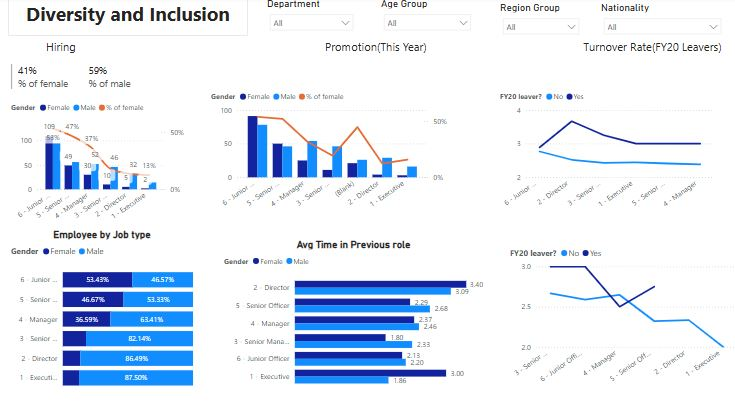

The page's visual inventory and layout, read from the dashboard file:
{"tool":"powerbi","page":{"name":"Page 1","canvas":[1280,720],"ordinal":0},"visuals":[{"type":"textbox","box":[50.4,6.7,403.1,58.8],"z":0},{"type":"slicer","title":"Department","fields":{"Values":["Pharma Group AG.Last Department in FY20"]},"box":[480.4,6.7,159.6,58.8],"z":1000},{"type":"slicer","title":"Age Group","fields":{"Values":["Pharma Group AG.Age @01.07.2020"]},"box":[671.9,6.7,166.3,58.8],"z":2000},{"type":"clusteredBarChart","title":"Avg Time in Previous role","fields":{"Category":["Pharma Group AG.Job Level after FY20 promotions"],"Series":["Pharma Group AG.Gender"],"Y":["Pharma Group AG.Time in Job Level @01.07.2020"]},"box":[408.2,404.8,445.1,262],"z":3000},{"type":"lineClusteredColumnComboChart","title":" % of female by Job Level after FY20 promotions ","fields":{"Category":["Pharma Group AG.Job Level after FY20 promotions"],"Y2":["Pharma Group AG.% of female"],"Y":["Pharma Group AG.Employee ID"],"Series":["Pharma Group AG.Gender"]},"box":[50.4,166.3,300.7,221.7],"z":4000},{"type":"lineClusteredColumnComboChart","title":"% of female by Job Level after FY21 promotions ","fields":{"Category":["Pharma Group AG.Job Level after FY21 promotions"],"Series":["Pharma Group AG.Gender"],"Y2":["Pharma Group AG.% of female"],"Y":["Pharma Group AG.Employee ID"]},"box":[386.4,147.8,406.5,220.1],"z":6000},{"type":"hundredPercentStackedBarChart","title":"Employee by Job type","fields":{"Y":["Pharma Group AG.Employee ID"],"Category":["Pharma Group AG.Job Level after FY20 promotions"],"Series":["Pharma Group AG.Gender"]},"box":[50.4,388,315.8,283.9],"z":7000},{"type":"slicer","title":"Nationality","fields":{"Values":["Pharma Group AG.Nationality 1"]},"box":[1041.5,6.7,216.7,58.8],"z":8000},{"type":"slicer","title":"Region  Group","fields":{"Values":["Pharma Group AG.Region group: nationality 1"]},"box":[871.8,6.7,147.8,65.5],"z":9000},{"type":"lineChart","fields":{"Y":["Pharma Group AG.FY19 Performance Rating"],"Category":["Pharma Group AG.Job Level after FY20 promotions"],"Series":["Pharma Group AG.FY20 leaver?"]},"box":[888.6,409.9,391.4,250.3],"z":10000},{"type":"lineChart","fields":{"Y":["Pharma Group AG.FY19 Performance Rating"],"Category":["Pharma Group AG.Job Level after FY20 promotions"],"Series":["Pharma Group AG.FY20 leaver?"]},"box":[871.8,147.8,367.9,220.1],"z":11000},{"type":"textbox","box":[26.9,65.5,1253.1,42],"z":12000},{"type":"multiRowCard","fields":{"Values":["Pharma Group AG.% of female","Pharma Group AG.% of male"]},"box":[50.4,107.5,258.7,58.8],"z":13000}]}

Visuals, with their boxes in screenshot pixels (x1, y1, x2, y2), scaled from the page's 1280x720 canvas onto the 735x407 screenshot:
textbox: x1=29, y1=4, x2=260, y2=37
"Department" slicer: x1=276, y1=4, x2=368, y2=37
"Age Group" slicer: x1=386, y1=4, x2=481, y2=37
"Avg Time in Previous role" clusteredBarChart: x1=234, y1=229, x2=490, y2=377
" % of female by Job Level after FY20 promotions " lineClusteredColumnComboChart: x1=29, y1=94, x2=202, y2=219
"% of female by Job Level after FY21 promotions " lineClusteredColumnComboChart: x1=222, y1=84, x2=455, y2=208
"Employee by Job type" hundredPercentStackedBarChart: x1=29, y1=219, x2=210, y2=380
"Nationality" slicer: x1=598, y1=4, x2=722, y2=37
"Region  Group" slicer: x1=501, y1=4, x2=585, y2=41
lineChart - Pharma Group AG.FY19 Performance Rating x Pharma Group AG.Job Level after FY20 promotions: x1=510, y1=232, x2=734, y2=373
lineChart - Pharma Group AG.FY19 Performance Rating x Pharma Group AG.Job Level after FY20 promotions: x1=501, y1=84, x2=712, y2=208
textbox: x1=15, y1=37, x2=734, y2=61
multiRowCard - Pharma Group AG.% of female x Pharma Group AG.% of male: x1=29, y1=61, x2=177, y2=94
